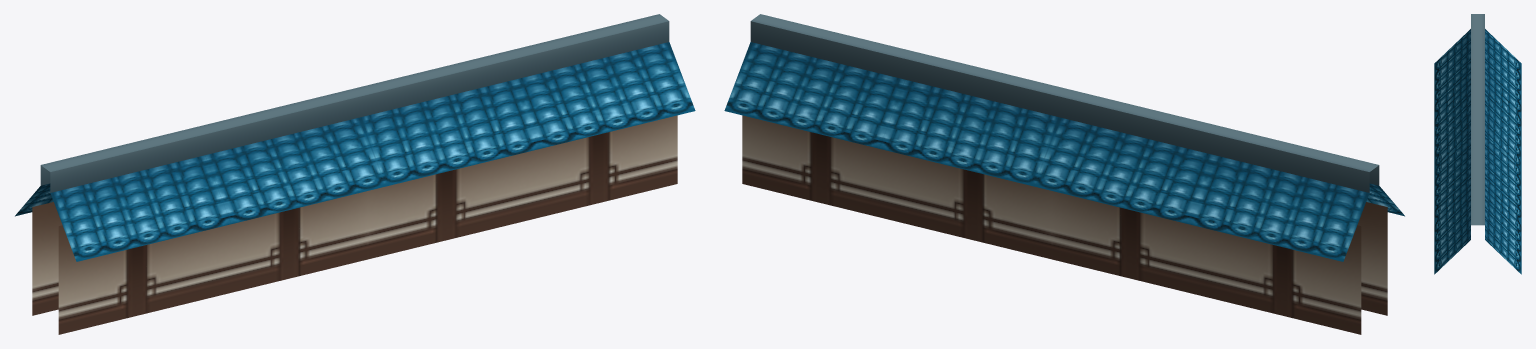
File: QSMY_City_YuanQiang02.FBX
3 renders of one model, left to right at view 1: azimuth 30°, elevation 25°; view 2: azimuth 150°, elevation 25°; view 3: azimuth 270°, elevation 25°, orthographic. The views are drawn at different scales.
Parts seen in each view (by area): view 1: Object125; view 2: Object125; view 3: Object125.
Part boxes in pixels (x1,y1,x2,y2): Object125: (15, 14, 695, 334); Object125: (724, 14, 1404, 334); Object125: (1434, 14, 1521, 274).
Bounding box in the file's own units: 19.91 × 4.82 × 3.46.
